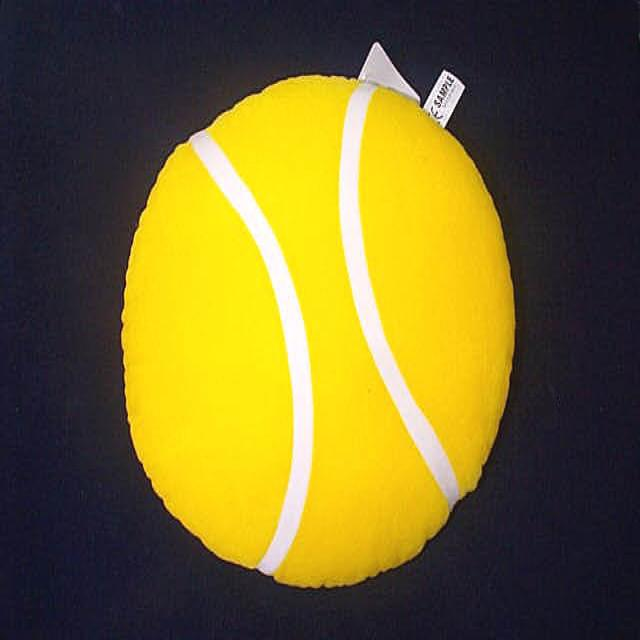Tennis Ball: (121, 76, 516, 591)
